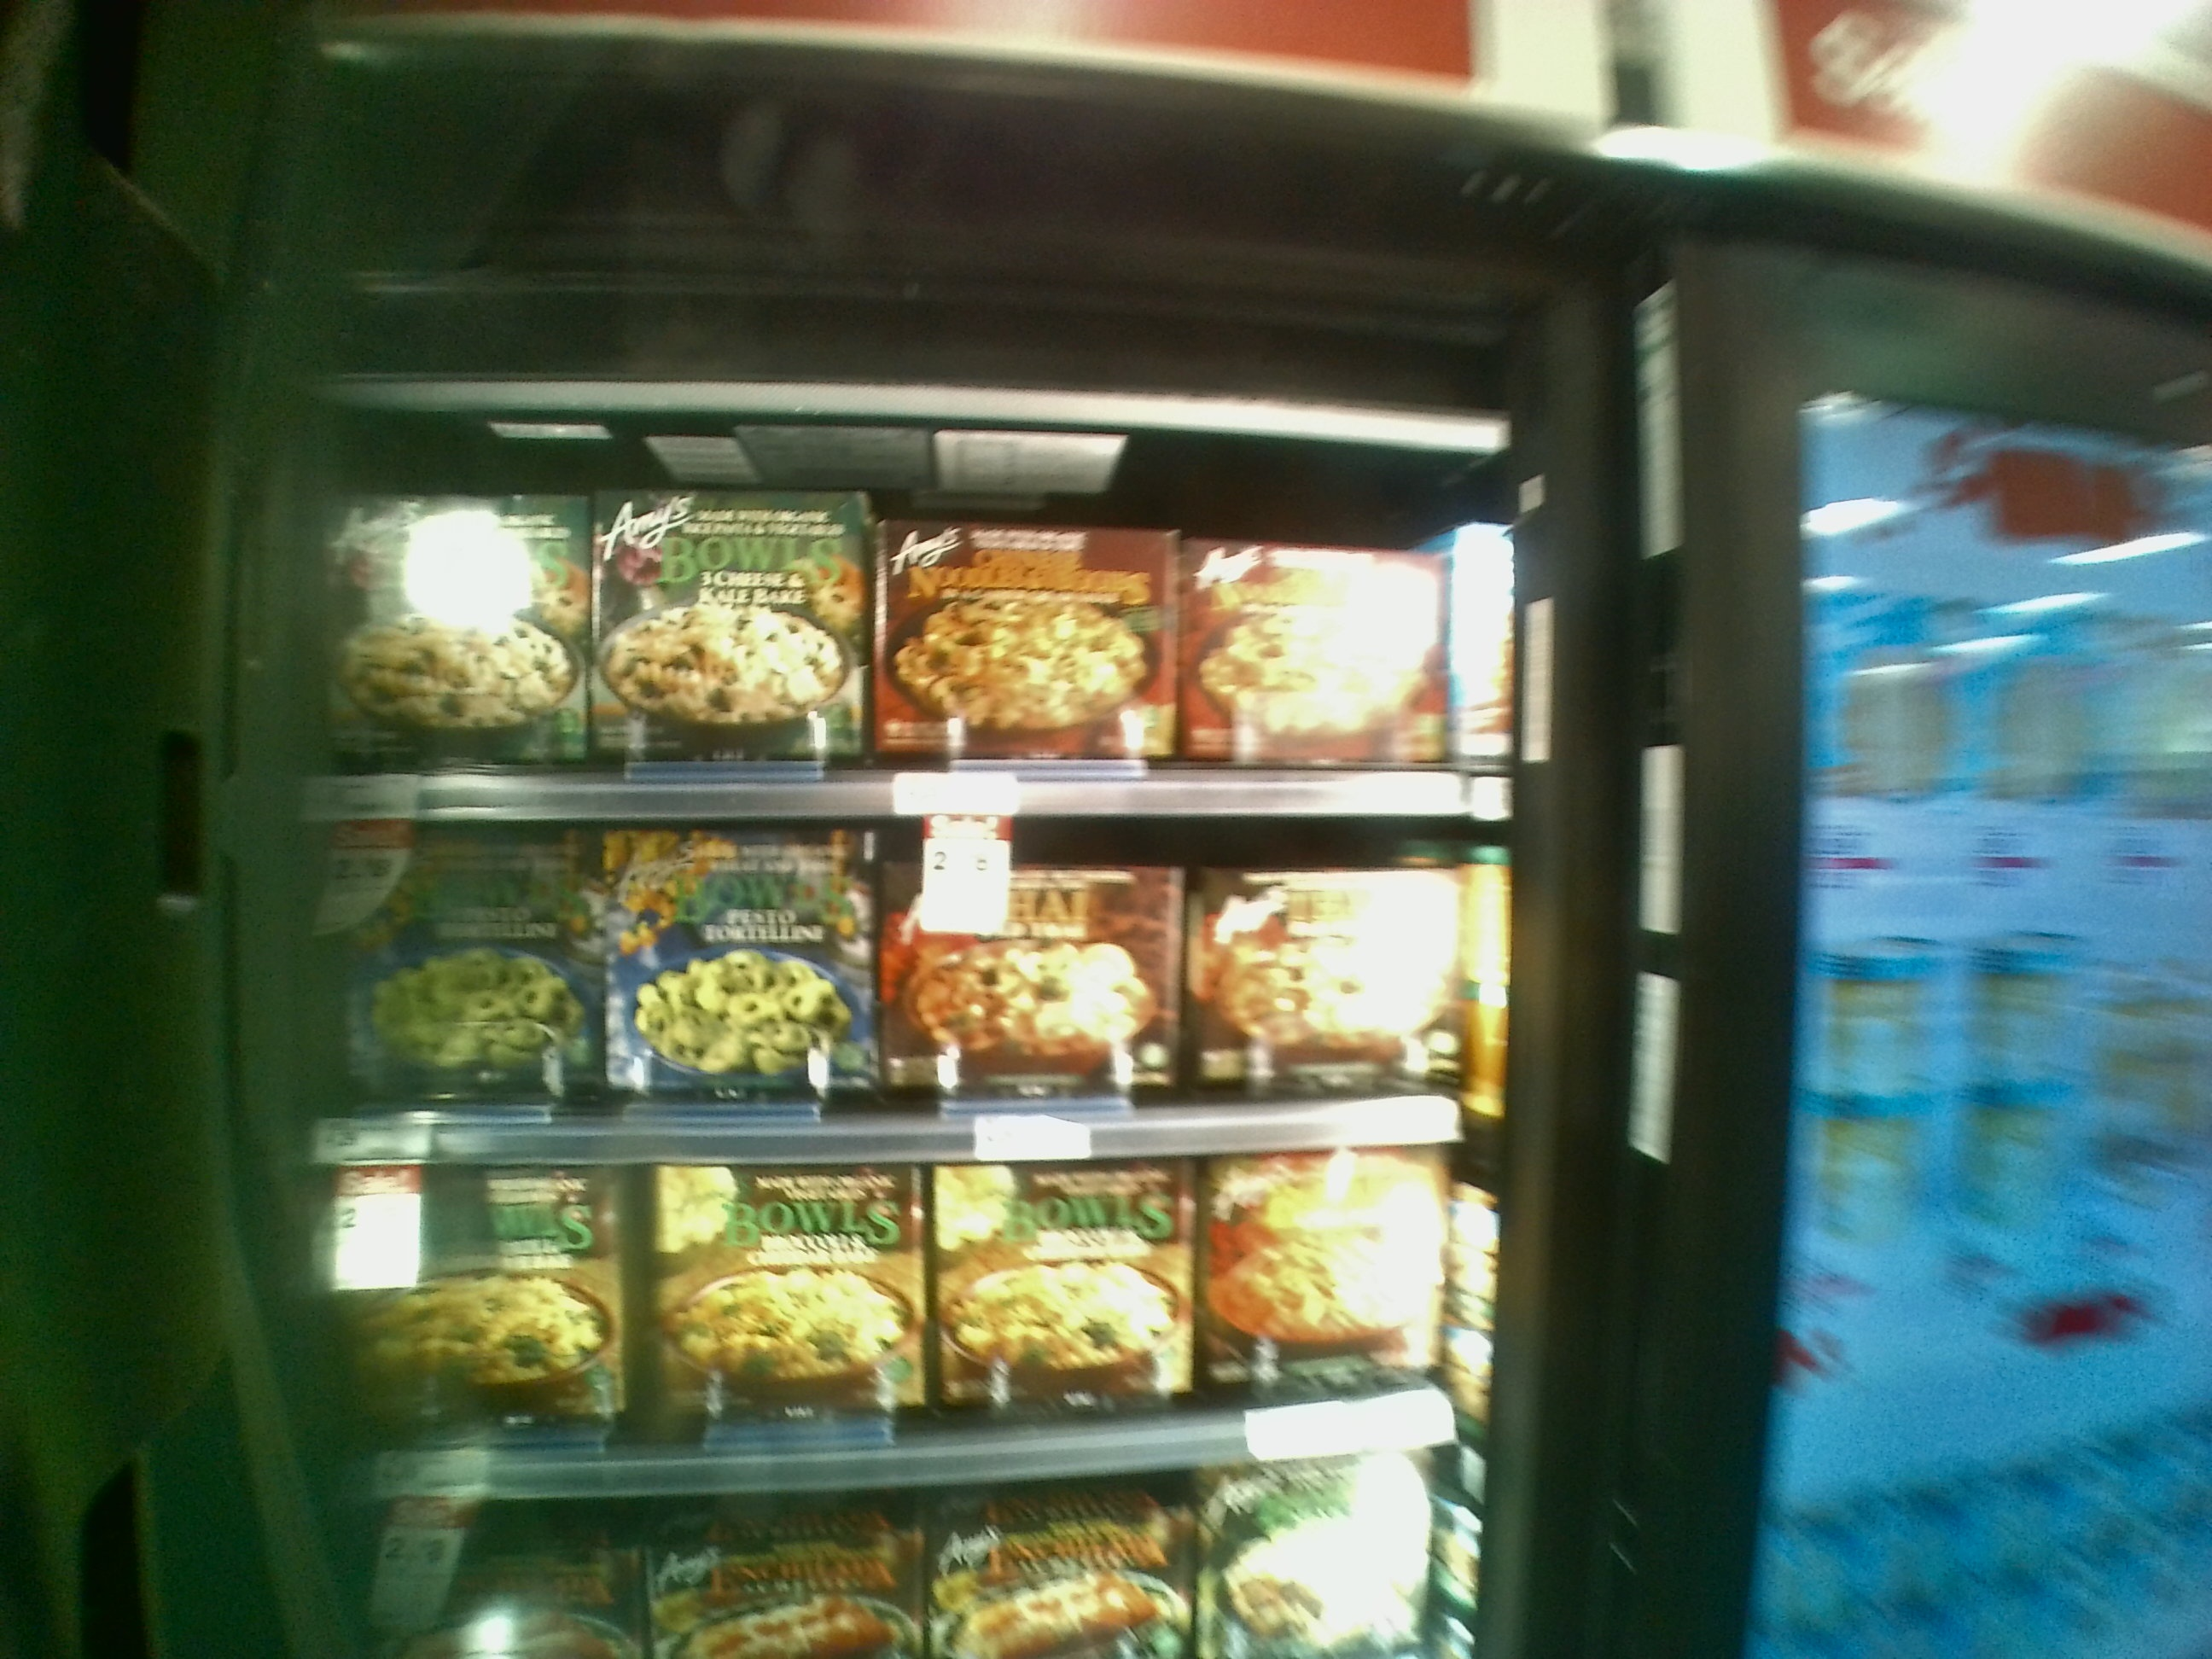shelf: (307, 408, 1514, 829), (303, 826, 1494, 1169), (340, 1164, 1486, 1488)
